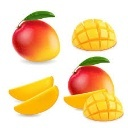mango: (12, 19, 61, 63), (67, 66, 114, 103)
